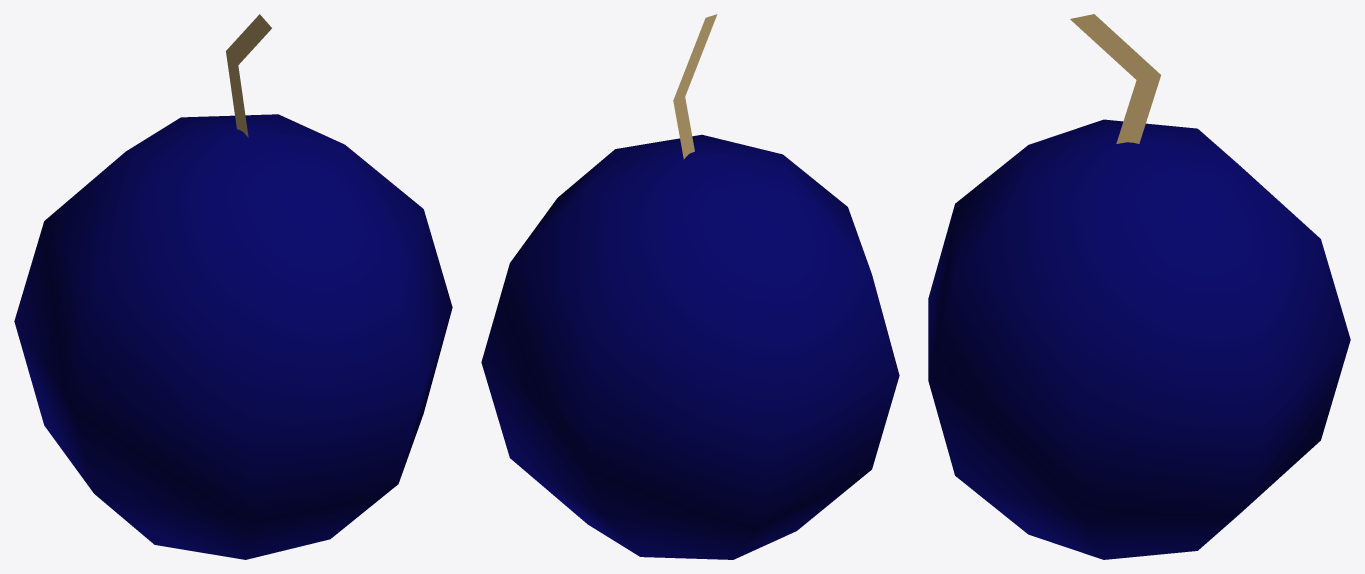
The model's file is bomb.fbx.
3 views of the same model, side by side, from view 1: azimuth 30°, elevation 25°; view 2: azimuth 150°, elevation 25°; view 3: azimuth 270°, elevation 25° (orthographic). The views are drawn at different scales.
Visible parts, largest first — view 1: Sphere; view 2: Sphere; view 3: Sphere.
Part boxes in pixels (x1=…): Sphere: x1=14, y1=14, x2=452, y2=559; Sphere: x1=481, y1=14, x2=899, y2=559; Sphere: x1=928, y1=14, x2=1350, y2=559.
Bounding box in the file's own units: 0.7833 × 1.06 × 0.7637.
